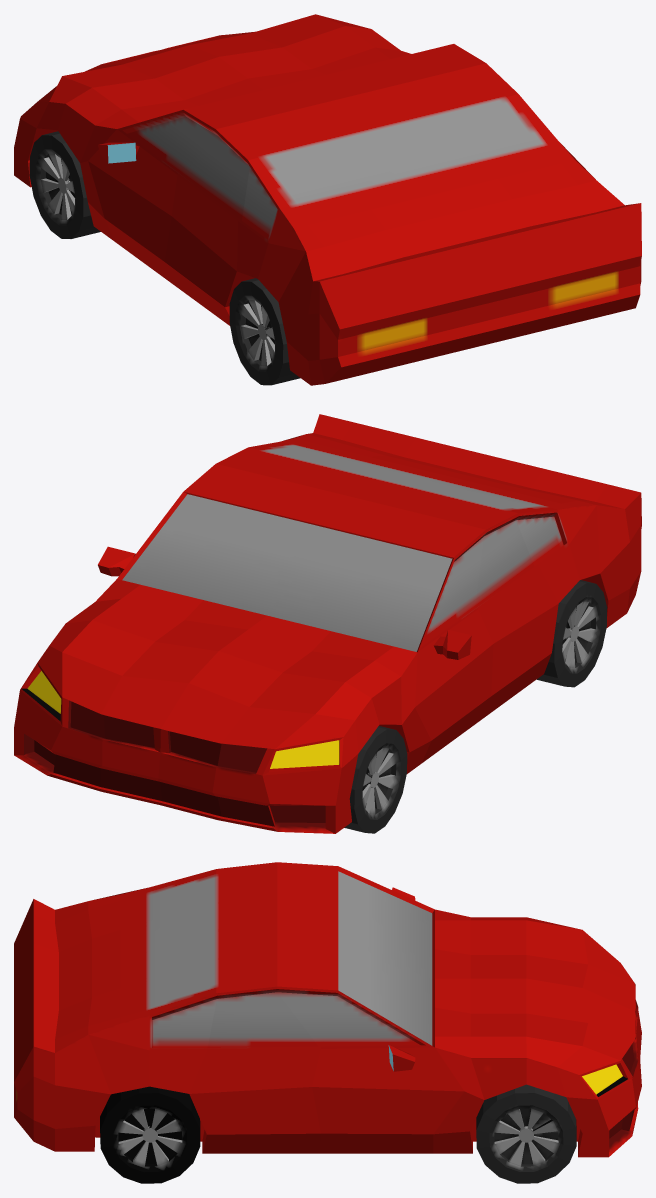
File: Carro.fbx
3 views of the same model, one above another, from view 1: azimuth 30°, elevation 25°; view 2: azimuth 150°, elevation 25°; view 3: azimuth 270°, elevation 25° (orthographic). The views are drawn at different scales.
Parts seen in each view (by area): view 1: Cube; view 2: Cube; view 3: Cube.
Boxes of the visible parts, <box> form: Cube: <box>14,14,641,385</box>; Cube: <box>14,414,641,833</box>; Cube: <box>14,862,641,1183</box>.
Bounding box in the file's own units: 277 × 143 × 439.
